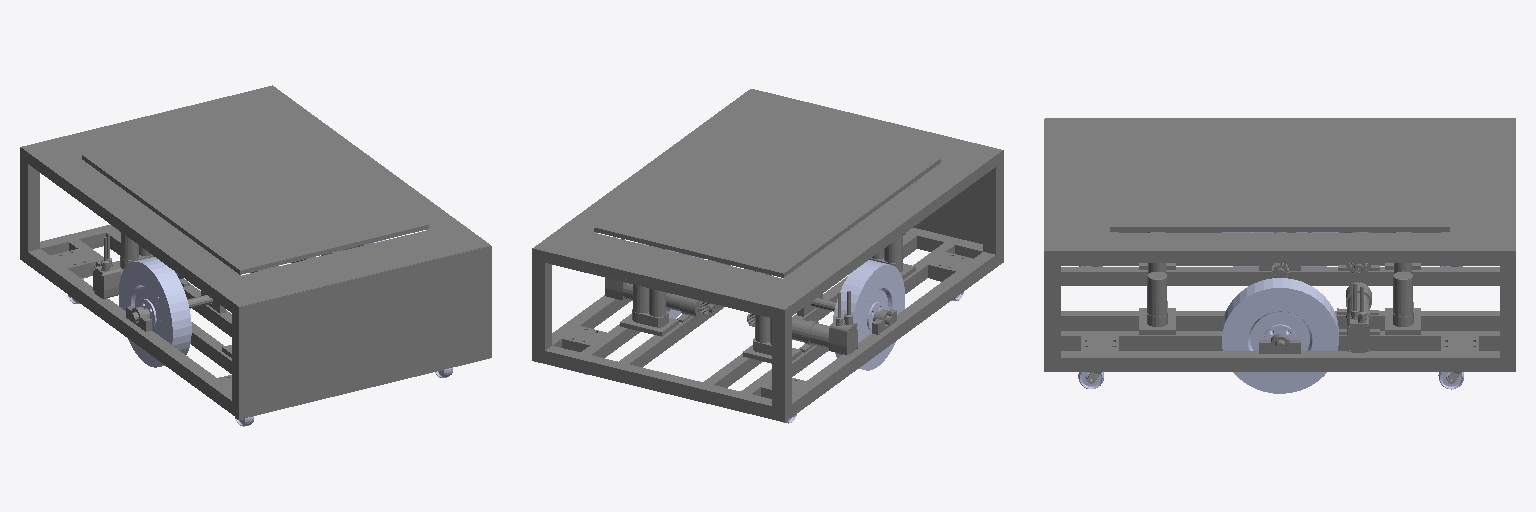
robot.urdf — Nhap1803:
<?xml version="1.0" encoding="utf-8"?>
<!-- This URDF was automatically created by SolidWorks to URDF Exporter! Originally created by [author] ([email redacted]) 
     Commit Version: 1.6.0-4-g7f85cfe  Build Version: 1.6.7995.38578
     For more information, please see http://wiki.ros.org/sw_urdf_exporter -->
<robot
  name="Nhap1803">
  <link
    name="base_link">
    <inertial>
      <origin
        xyz="-0.0003195 -0.0019358 0.12546"
        rpy="0 0 0" />
      <mass
        value="14.198" />
      <inertia
        ixx="1.1146"
        ixy="-1.5288E-07"
        ixz="-8.9692E-10"
        iyy="0.59567"
        iyz="4.2239E-08"
        izz="1.5215" />
    </inertial>
    <visual>
      <origin
        xyz="0 0 0"
        rpy="0 0 0" />
      <geometry>
        <mesh
          filename="package://Nhap1803/meshes/base_link.STL" />
      </geometry>
      <material
        name="">
        <color
          rgba="0.56078 0.56078 0.56078 1" />
      </material>
    </visual>
    <collision>
      <origin
        xyz="0 0 0"
        rpy="0 0 0" />
      <geometry>
        <mesh
          filename="package://Nhap1803/meshes/base_link.STL" />
      </geometry>
    </collision>
  </link>
  <link
    name="leftt_wheel">
    <inertial>
      <origin
        xyz="-6.9389E-18 2.4287E-18 -0.0013124"
        rpy="0 0 0" />
      <mass
        value="0.5" />
      <inertia
        ixx="0.0055201"
        ixy="-1.8612E-21"
        ixz="3.0675E-19"
        iyy="0.0055201"
        iyz="2.7061E-19"
        izz="0.010589" />
    </inertial>
    <visual>
      <origin
        xyz="0 0 0"
        rpy="0 0 0" />
      <geometry>
        <mesh
          filename="package://Nhap1803/meshes/leftt_wheel.STL" />
      </geometry>
      <material
        name="">
        <color
          rgba="0.79216 0.81961 0.93333 1" />
      </material>
    </visual>
    <collision>
      <origin
        xyz="0 0 0"
        rpy="0 0 0" />
      <geometry>
        <mesh
          filename="package://Nhap1803/meshes/leftt_wheel.STL" />
      </geometry>
    </collision>
  </link>
  <joint
    name="leftwheel"
    type="continuous">
    <origin
      xyz="-0.239 0 0.048"
      rpy="3.1416 -1.5708 0" />
    <parent
      link="base_link" />
    <child
      link="leftt_wheel" />
    <axis
      xyz="0 0 -1" />
    <limit
      effort="10"
      velocity="10" />
    <dynamics
      damping="0.1"
      friction="0.1" />
  </joint>
  <link
    name="right_wheel">
    <inertial>
      <origin
        xyz="-6.9389E-18 -3.794E-18 0.0013124"
        rpy="0 0 0" />
      <mass
        value="0.5" />
      <inertia
        ixx="0.0055201"
        ixy="1.4476E-21"
        ixz="-6.1012E-19"
        iyy="0.0055201"
        iyz="4.8495E-19"
        izz="0.010589" />
    </inertial>
    <visual>
      <origin
        xyz="0 0 0"
        rpy="0 0 0" />
      <geometry>
        <mesh
          filename="package://Nhap1803/meshes/right_wheel.STL" />
      </geometry>
      <material
        name="">
        <color
          rgba="0.79216 0.81961 0.93333 1" />
      </material>
    </visual>
    <collision>
      <origin
        xyz="0 0 0"
        rpy="0 0 0" />
      <geometry>
        <mesh
          filename="package://Nhap1803/meshes/right_wheel.STL" />
      </geometry>
    </collision>
  </link>
  <joint
    name="rightwheel"
    type="continuous">
    <origin
      xyz="0.239 0 0.048"
      rpy="3.1416 -1.5708 0" />
    <parent
      link="base_link" />
    <child
      link="right_wheel" />
    <axis
      xyz="0 0 1" />
    <limit
      effort="10"
      velocity="10" />
    <dynamics
      damping="0.1"
      friction="0.1" />
  </joint>
  <link
    name="caster1">
    <inertial>
      <origin
        xyz="3.3798E-06 -0.0019114 -0.0084881"
        rpy="0 0 0" />
      <mass
        value="0.021452" />
      <inertia
        ixx="5.9535E-06"
        ixy="-6.0783E-11"
        ixz="5.2287E-11"
        iyy="5.3578E-06"
        iyz="-6.0929E-07"
        izz="8.8365E-06" />
    </inertial>
    <visual>
      <origin
        xyz="0 0 0"
        rpy="0 0 0" />
      <geometry>
        <mesh
          filename="package://Nhap1803/meshes/caster1.STL" />
      </geometry>
      <material
        name="">
        <color
          rgba="0.68627 0.68627 0.68627 1" />
      </material>
    </visual>
    <collision>
      <origin
        xyz="0 0 0"
        rpy="0 0 0" />
      <geometry>
        <mesh
          filename="package://Nhap1803/meshes/caster1.STL" />
      </geometry>
    </collision>
  </link>
  <joint
    name="casterjoint1"
    type="continuous">
    <origin
      xyz="-0.2365 0.3445 0"
      rpy="0 0 0" />
    <parent
      link="base_link" />
    <child
      link="caster1" />
    <axis
      xyz="0 0 1" />
    <limit
      effort="10"
      velocity="10" />
  </joint>
  <link
    name="caster_wheel1">
    <inertial>
      <origin
        xyz="-2.2118E-12 4.7003E-06 3.801E-11"
        rpy="0 0 0" />
      <mass
        value="0.027548" />
      <inertia
        ixx="5.0367E-06"
        ixy="5.9339E-16"
        ixz="-8.758E-17"
        iyy="5.0354E-06"
        iyz="5.0365E-15"
        izz="8.536E-06" />
    </inertial>
    <visual>
      <origin
        xyz="0 0 0"
        rpy="0 0 0" />
      <geometry>
        <mesh
          filename="package://Nhap1803/meshes/caster_wheel1.STL" />
      </geometry>
      <material
        name="">
        <color
          rgba="0.79216 0.81961 0.93333 1" />
      </material>
    </visual>
    <collision>
      <origin
        xyz="0 0 0"
        rpy="0 0 0" />
      <geometry>
        <mesh
          filename="package://Nhap1803/meshes/caster_wheel1.STL" />
      </geometry>
    </collision>
  </link>
  <joint
    name="casterwheel1"
    type="continuous">
    <origin
      xyz="0 -0.017 -0.039"
      rpy="3.1416 -1.5708 0" />
    <parent
      link="caster1" />
    <child
      link="caster_wheel1" />
    <axis
      xyz="0 0 -1" />
    <limit
      effort="10"
      velocity="10" />
    <dynamics
      damping="0.1"
      friction="0.1" />
  </joint>
  <link
    name="caster2">
    <inertial>
      <origin
        xyz="3.3798E-06 -0.0019114 -0.0084881"
        rpy="0 0 0" />
      <mass
        value="0.021452" />
      <inertia
        ixx="5.9535E-06"
        ixy="-6.0783E-11"
        ixz="5.2287E-11"
        iyy="5.3578E-06"
        iyz="-6.0929E-07"
        izz="8.8365E-06" />
    </inertial>
    <visual>
      <origin
        xyz="0 0 0"
        rpy="0 0 0" />
      <geometry>
        <mesh
          filename="package://Nhap1803/meshes/caster2.STL" />
      </geometry>
      <material
        name="">
        <color
          rgba="0.68627 0.68627 0.68627 1" />
      </material>
    </visual>
    <collision>
      <origin
        xyz="0 0 0"
        rpy="0 0 0" />
      <geometry>
        <mesh
          filename="package://Nhap1803/meshes/caster2.STL" />
      </geometry>
    </collision>
  </link>
  <joint
    name="casterjoint2"
    type="continuous">
    <origin
      xyz="0.2365 0.3445 0"
      rpy="0 0 0" />
    <parent
      link="base_link" />
    <child
      link="caster2" />
    <axis
      xyz="0 0 1" />
    <limit
      effort="10"
      velocity="10" />
  </joint>
  <link
    name="caster_wheel2">
    <inertial>
      <origin
        xyz="-2.2118E-12 4.7003E-06 3.801E-11"
        rpy="0 0 0" />
      <mass
        value="0.027548" />
      <inertia
        ixx="5.0367E-06"
        ixy="5.9339E-16"
        ixz="-8.758E-17"
        iyy="5.0354E-06"
        iyz="5.0365E-15"
        izz="8.536E-06" />
    </inertial>
    <visual>
      <origin
        xyz="0 0 0"
        rpy="0 0 0" />
      <geometry>
        <mesh
          filename="package://Nhap1803/meshes/caster_wheel2.STL" />
      </geometry>
      <material
        name="">
        <color
          rgba="0.79216 0.81961 0.93333 1" />
      </material>
    </visual>
    <collision>
      <origin
        xyz="0 0 0"
        rpy="0 0 0" />
      <geometry>
        <mesh
          filename="package://Nhap1803/meshes/caster_wheel2.STL" />
      </geometry>
    </collision>
  </link>
  <joint
    name="casterwheel2"
    type="continuous">
    <origin
      xyz="0 -0.017 -0.039"
      rpy="3.1416 -1.5708 0" />
    <parent
      link="caster2" />
    <child
      link="caster_wheel2" />
    <axis
      xyz="0 0 -1" />
    <limit
      effort="10"
      velocity="10" />
    <dynamics
      damping="0.1"
      friction="0.1" />
  </joint>
  <link
    name="caster3">
    <inertial>
      <origin
        xyz="3.3798E-06 -0.0019114 -0.0084881"
        rpy="0 0 0" />
      <mass
        value="0.021452" />
      <inertia
        ixx="5.9535E-06"
        ixy="-6.0783E-11"
        ixz="5.2287E-11"
        iyy="5.3578E-06"
        iyz="-6.0929E-07"
        izz="8.8365E-06" />
    </inertial>
    <visual>
      <origin
        xyz="0 0 0"
        rpy="0 0 0" />
      <geometry>
        <mesh
          filename="package://Nhap1803/meshes/caster3.STL" />
      </geometry>
      <material
        name="">
        <color
          rgba="0.68627 0.68627 0.68627 1" />
      </material>
    </visual>
    <collision>
      <origin
        xyz="0 0 0"
        rpy="0 0 0" />
      <geometry>
        <mesh
          filename="package://Nhap1803/meshes/caster3.STL" />
      </geometry>
    </collision>
  </link>
  <joint
    name="casterjoint3"
    type="continuous">
    <origin
      xyz="-0.2365 -0.3445 0"
      rpy="0 0 0" />
    <parent
      link="base_link" />
    <child
      link="caster3" />
    <axis
      xyz="0 0 -1" />
    <limit
      effort="10"
      velocity="10" />
  </joint>
  <link
    name="caster_wheel3">
    <inertial>
      <origin
        xyz="-2.2118E-12 4.7003E-06 3.801E-11"
        rpy="0 0 0" />
      <mass
        value="0.027548" />
      <inertia
        ixx="5.0367E-06"
        ixy="5.9339E-16"
        ixz="-8.7582E-17"
        iyy="5.0354E-06"
        iyz="5.0365E-15"
        izz="8.536E-06" />
    </inertial>
    <visual>
      <origin
        xyz="0 0 0"
        rpy="0 0 0" />
      <geometry>
        <mesh
          filename="package://Nhap1803/meshes/caster_wheel3.STL" />
      </geometry>
      <material
        name="">
        <color
          rgba="0.79216 0.81961 0.93333 1" />
      </material>
    </visual>
    <collision>
      <origin
        xyz="0 0 0"
        rpy="0 0 0" />
      <geometry>
        <mesh
          filename="package://Nhap1803/meshes/caster_wheel3.STL" />
      </geometry>
    </collision>
  </link>
  <joint
    name="casterwheel3"
    type="continuous">
    <origin
      xyz="0 -0.017 -0.039"
      rpy="3.1416 -1.5708 0" />
    <parent
      link="caster3" />
    <child
      link="caster_wheel3" />
    <axis
      xyz="0 0 -1" />
    <limit
      effort="10"
      velocity="10" />
    <dynamics
      damping="0.1"
      friction="0.1" />
  </joint>
  <link
    name="caster4">
    <inertial>
      <origin
        xyz="3.3798E-06 -0.0019114 -0.0084881"
        rpy="0 0 0" />
      <mass
        value="0.021452" />
      <inertia
        ixx="5.9535E-06"
        ixy="-6.0783E-11"
        ixz="5.2287E-11"
        iyy="5.3578E-06"
        iyz="-6.0929E-07"
        izz="8.8365E-06" />
    </inertial>
    <visual>
      <origin
        xyz="0 0 0"
        rpy="0 0 0" />
      <geometry>
        <mesh
          filename="package://Nhap1803/meshes/caster4.STL" />
      </geometry>
      <material
        name="">
        <color
          rgba="0.68627 0.68627 0.68627 1" />
      </material>
    </visual>
    <collision>
      <origin
        xyz="0 0 0"
        rpy="0 0 0" />
      <geometry>
        <mesh
          filename="package://Nhap1803/meshes/caster4.STL" />
      </geometry>
    </collision>
  </link>
  <joint
    name="casterjoint4"
    type="continuous">
    <origin
      xyz="0.2365 -0.3445 0"
      rpy="0 0 0" />
    <parent
      link="base_link" />
    <child
      link="caster4" />
    <axis
      xyz="0 0 -1" />
    <limit
      effort="10"
      velocity="10" />
  </joint>
  <link
    name="caster_wheel4">
    <inertial>
      <origin
        xyz="-2.2118E-12 4.7003E-06 3.801E-11"
        rpy="0 0 0" />
      <mass
        value="0.027548" />
      <inertia
        ixx="5.0367E-06"
        ixy="5.9339E-16"
        ixz="-8.758E-17"
        iyy="5.0354E-06"
        iyz="5.0365E-15"
        izz="8.536E-06" />
    </inertial>
    <visual>
      <origin
        xyz="0 0 0"
        rpy="0 0 0" />
      <geometry>
        <mesh
          filename="package://Nhap1803/meshes/caster_wheel4.STL" />
      </geometry>
      <material
        name="">
        <color
          rgba="0.79216 0.81961 0.93333 1" />
      </material>
    </visual>
    <collision>
      <origin
        xyz="0 0 0"
        rpy="0 0 0" />
      <geometry>
        <mesh
          filename="package://Nhap1803/meshes/caster_wheel4.STL" />
      </geometry>
    </collision>
  </link>
  <joint
    name="casterwheel4"
    type="continuous">
    <origin
      xyz="0 -0.017 -0.039"
      rpy="3.1416 -1.5708 0" />
    <parent
      link="caster4" />
    <child
      link="caster_wheel4" />
    <axis
      xyz="0 0 -1" />
    <limit
      effort="10"
      velocity="10" />
    <dynamics
      damping="0.1"
      friction="0.1" />
  </joint>
</robot>

--- Render facts (derived) ---
3 views of the same robot in one strip: view 1: azimuth 30°, elevation 25°; view 2: azimuth 150°, elevation 25°; view 3: azimuth 270°, elevation 25° (orthographic).
Model Nhap1803 with 11 links and 10 joints (10 continuous), rooted at base_link, posed every joint at zero.
Visible links, largest first — view 1: base_link, leftt_wheel; view 2: base_link, leftt_wheel; view 3: base_link, right_wheel.
Link boxes in pixels (box(x1,y1,x2,y2)): base_link: box(20, 85, 491, 419); leftt_wheel: box(119, 257, 191, 367); base_link: box(532, 89, 1003, 422); leftt_wheel: box(832, 260, 904, 370); base_link: box(1044, 118, 1515, 371); right_wheel: box(1222, 278, 1338, 393).
Bounding box of the posed robot: 0.6 × 0.901 × 0.3345 m (x, y, z).
11 mesh visuals loaded from 11 distinct referenced files (11 binary STL).
